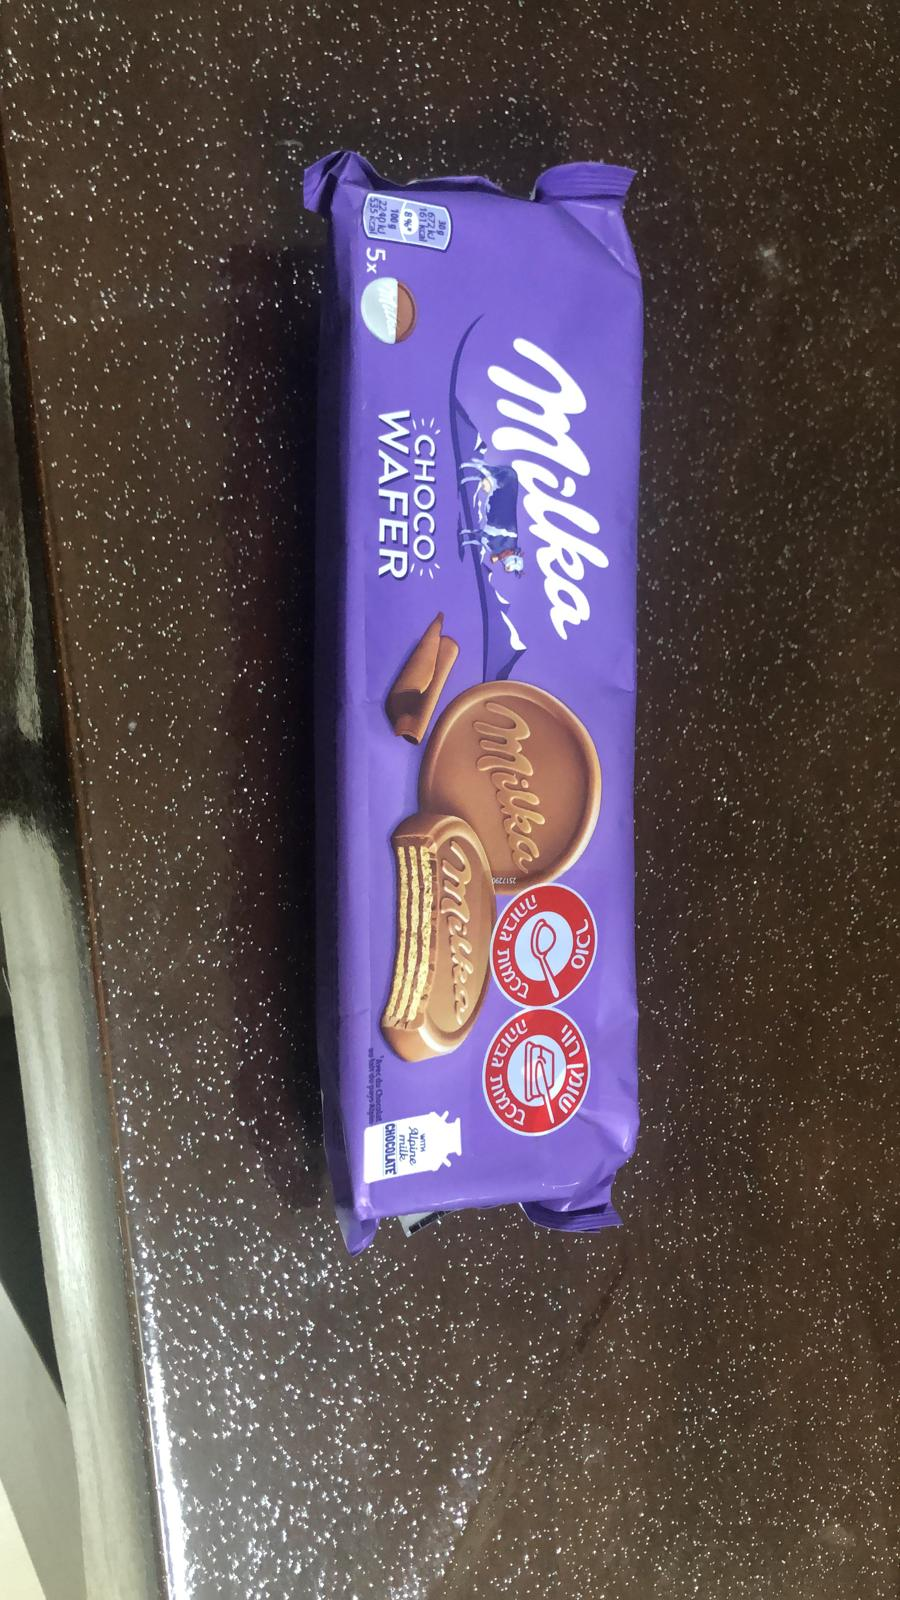fat: (481, 1010, 595, 1138)
sugar: (487, 884, 596, 1008)
